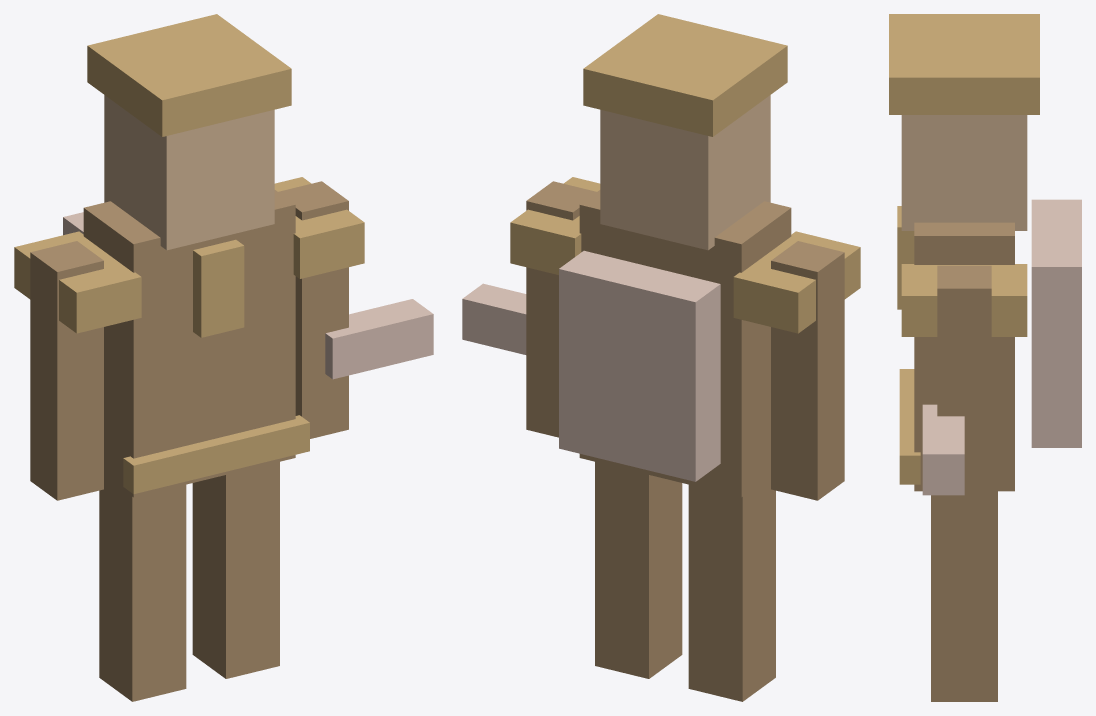
File: 02_astra_trenchmark_custodian_from_scribes.glb
3 renders of one model, left to right at view 1: azimuth 30°, elevation 25°; view 2: azimuth 150°, elevation 25°; view 3: azimuth 270°, elevation 25°, orthographic.
Visible parts, largest first — view 1: Astra Trenchmark, Custodian from Scribes'; view 2: Astra Trenchmark, Custodian from Scribes'; view 3: Astra Trenchmark, Custodian from Scribes'.
Part boxes in pixels (x1,y1,x2,y2): Astra Trenchmark, Custodian from Scribes': (14, 14, 433, 701); Astra Trenchmark, Custodian from Scribes': (462, 14, 860, 701); Astra Trenchmark, Custodian from Scribes': (889, 14, 1081, 701).
Bounding box in the file's own units: 0.9753 × 1.55 × 0.4377.
